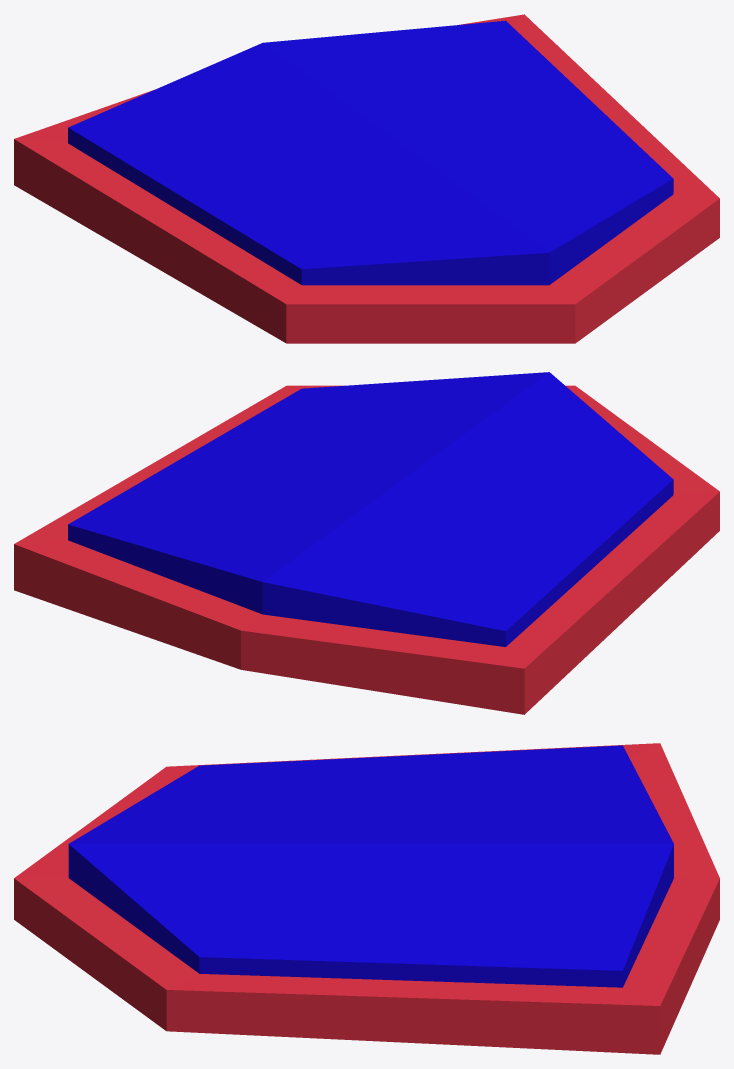
File: Shield.fbx
3 views of the same model, one above another, from view 1: azimuth 30°, elevation 25°; view 2: azimuth 150°, elevation 25°; view 3: azimuth 270°, elevation 25° (orthographic). The views are drawn at different scales.
Parts seen in each view (by area): view 1: Cylinder; view 2: Cylinder; view 3: Cylinder.
Part boxes in pixels (x1=…): Cylinder: x1=14, y1=14, x2=719, y2=343; Cylinder: x1=14, y1=372, x2=719, y2=714; Cylinder: x1=14, y1=743, x2=719, y2=1054.
Size of the model in its own units: 204 by 28.76 by 231.
